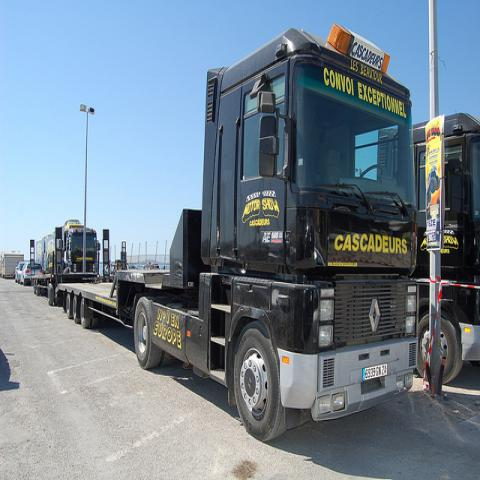bus: (35, 225, 97, 272)
car: (19, 261, 43, 286), (14, 260, 29, 284), (64, 220, 84, 232)
truck: (57, 23, 419, 442), (412, 109, 480, 390), (36, 219, 100, 273)
